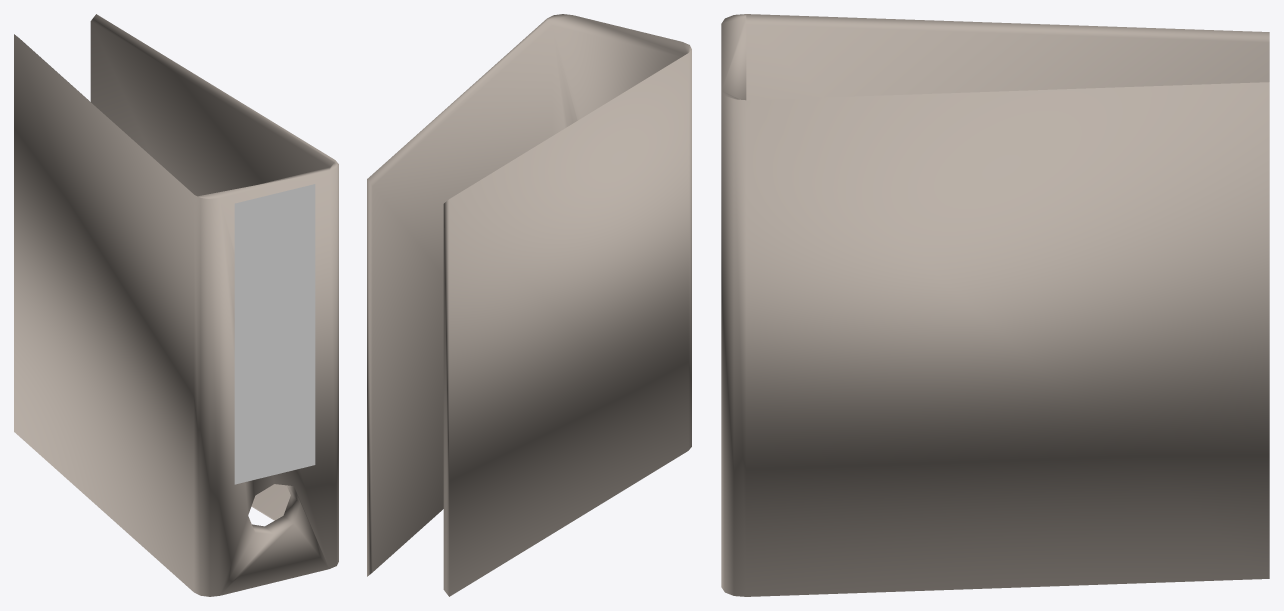
The model's file is Assets.fbx_LayerSkill.fbx.
The picture shows the model from 3 angles, left to right: view 1: azimuth 30°, elevation 25°; view 2: azimuth 150°, elevation 25°; view 3: azimuth 270°, elevation 25°; orthographic projection. The views are drawn at different scales.
Parts seen in each view (by area): view 1: Cube.036, Plane.021; view 2: Cube.036; view 3: Cube.036.
Part boxes in pixels (x1=…): Cube.036: x1=14, y1=14, x2=338, y2=596; Plane.021: x1=234, y1=184, x2=315, y2=484; Cube.036: x1=367, y1=14, x2=691, y2=596; Cube.036: x1=721, y1=14, x2=1269, y2=596.
Size of the model in its own units: 15.66 by 42.04 by 42.13.
